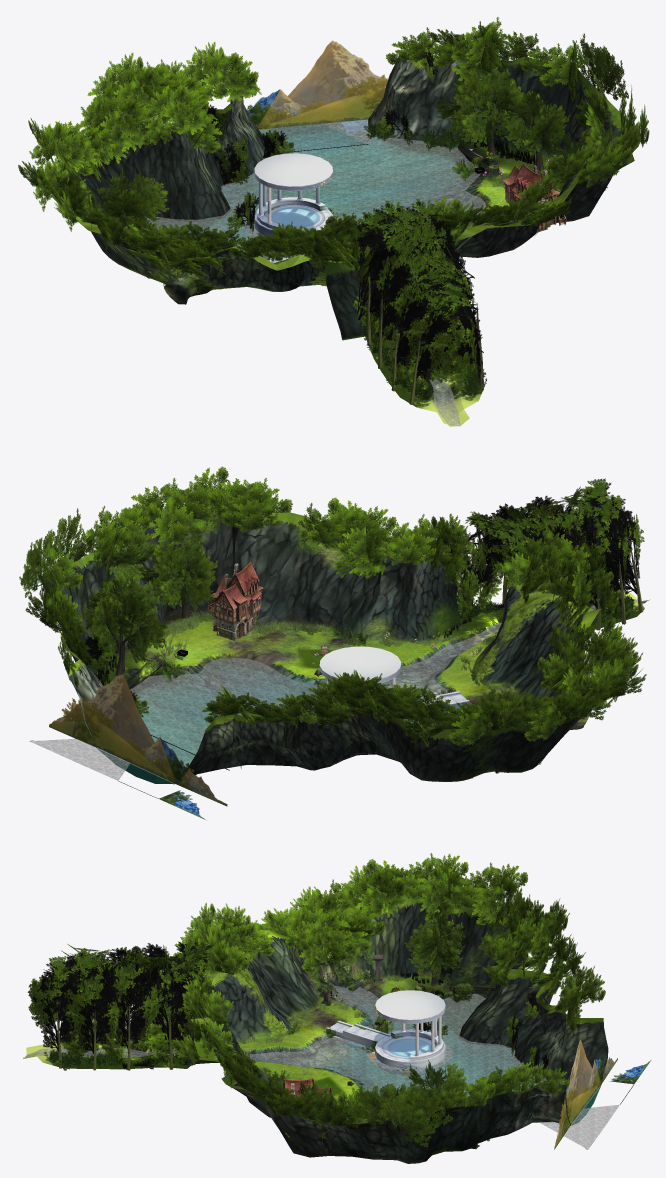
Rendered from forest.glb.
3 views of the same model, one above another, from view 1: azimuth 30°, elevation 25°; view 2: azimuth 150°, elevation 25°; view 3: azimuth 270°, elevation 25° (orthographic). The views are drawn at different scales.
Visible parts, largest first — view 1: skp1EAC1, skp2181_1; view 2: skp1EAC1, skp2181_1; view 3: skp1EAC1.
Boxes of the visible parts, x1,y1,x2,y2 form: skp1EAC1: (18,17,649,426); skp2181_1: (503,163,566,232); skp1EAC1: (19,466,650,820); skp2181_1: (208,561,263,640); skp1EAC1: (23,853,651,1163).
Size of what is drawn, in the model's own units: 3709 by 1037 by 4025.
21 materials, 19 textured.
